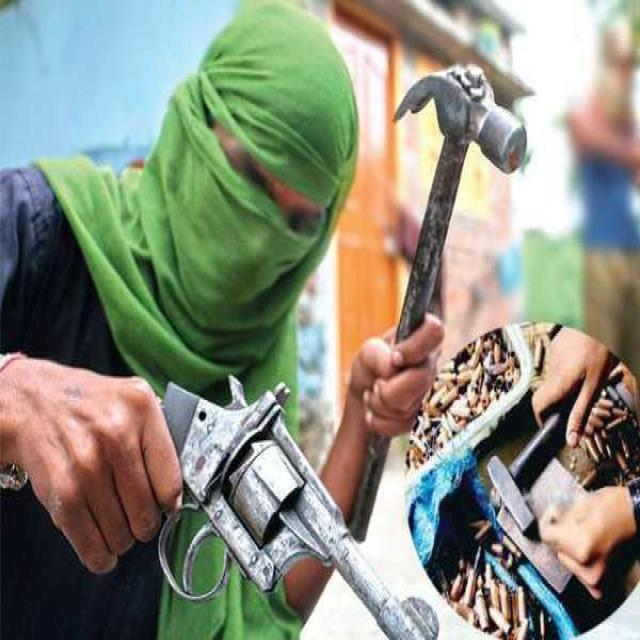Handgun: (38, 356, 447, 638)
